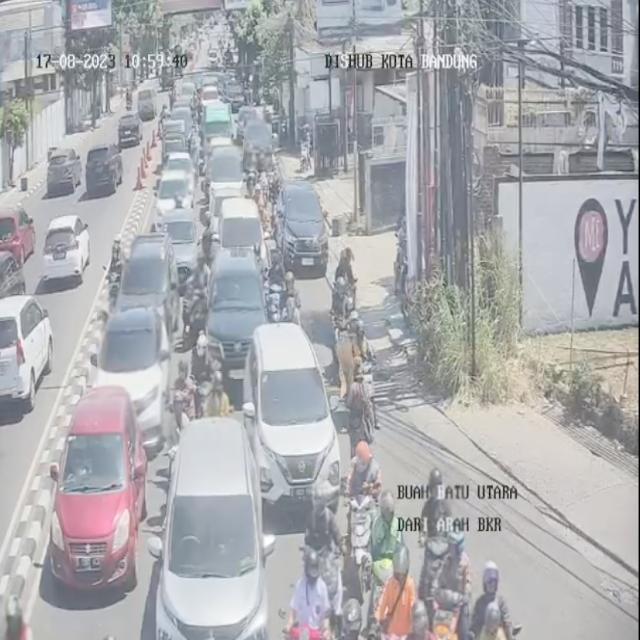cars: (151, 416, 275, 638), (48, 387, 145, 597), (243, 324, 339, 524), (97, 293, 175, 441), (208, 249, 267, 379), (122, 232, 181, 335), (276, 174, 324, 269), (221, 194, 266, 272), (162, 205, 204, 280), (207, 141, 243, 213), (206, 182, 243, 244), (157, 167, 193, 230), (201, 105, 230, 160), (244, 114, 272, 169), (164, 150, 197, 194), (160, 116, 190, 164), (200, 88, 224, 119), (172, 105, 193, 129)
motorcycle: (422, 464, 467, 638), (340, 432, 389, 588), (306, 480, 348, 636), (375, 490, 415, 617), (344, 316, 382, 436), (285, 544, 332, 638), (381, 543, 424, 640), (469, 563, 512, 640), (335, 248, 361, 344), (201, 372, 234, 436), (180, 261, 204, 346), (0, 592, 36, 640), (170, 354, 190, 439), (263, 247, 285, 321), (187, 250, 207, 326), (190, 251, 210, 300)
